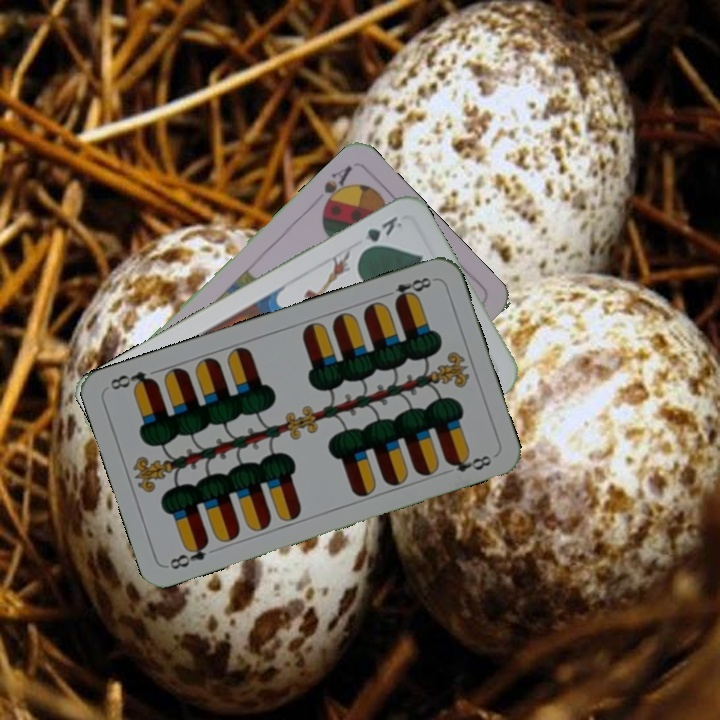E8: (379, 273, 437, 306), (165, 536, 211, 572)
GK: (356, 212, 405, 256)
SA: (318, 161, 355, 214)
